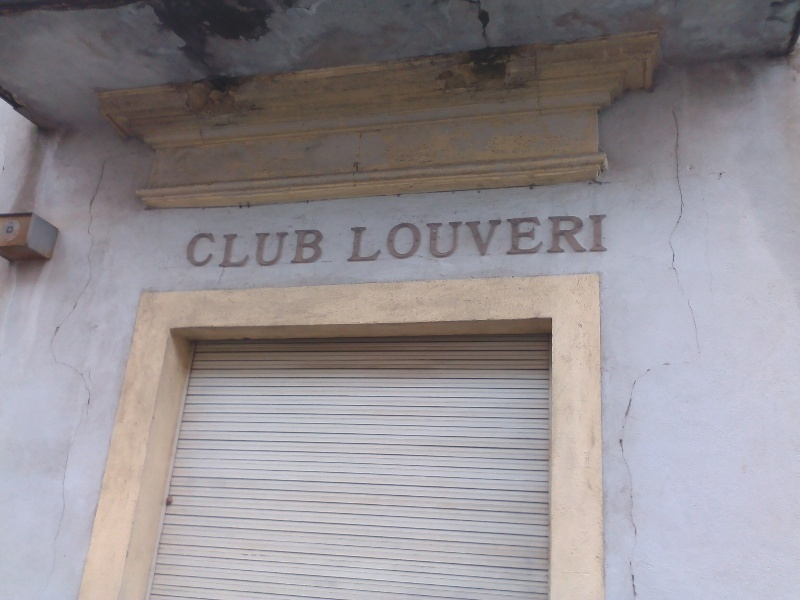text: (593, 211, 609, 263), (353, 211, 368, 263), (369, 211, 384, 263), (385, 211, 400, 263), (401, 211, 416, 263), (417, 211, 432, 263), (433, 211, 448, 263), (449, 211, 464, 263), (465, 211, 480, 263), (481, 211, 496, 263), (497, 211, 512, 263), (513, 211, 528, 263), (529, 211, 544, 263), (545, 211, 560, 263), (561, 211, 576, 263), (577, 211, 592, 263), (193, 227, 208, 270), (209, 227, 224, 270), (225, 227, 240, 270), (241, 227, 256, 270), (257, 227, 272, 270), (273, 227, 288, 270), (289, 227, 304, 270), (305, 227, 320, 270), (321, 227, 327, 270), (349, 211, 352, 263), (191, 227, 192, 270)
